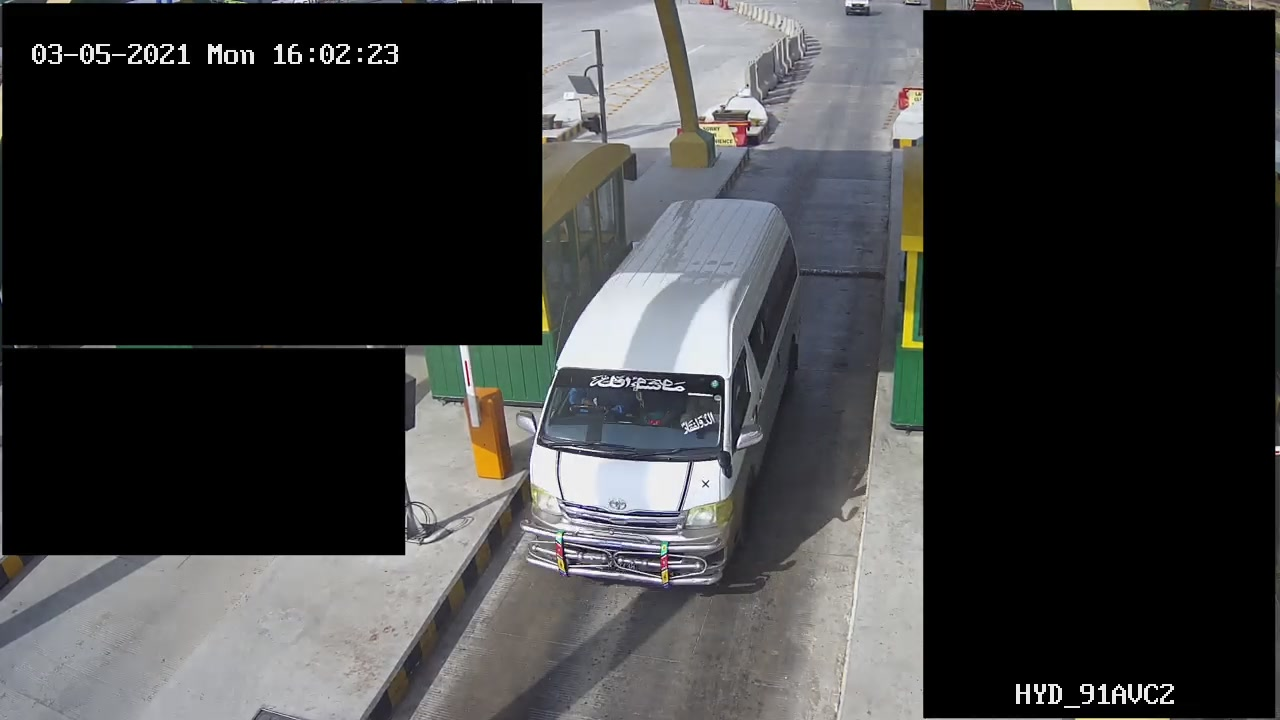F2: (518, 192, 811, 584)
